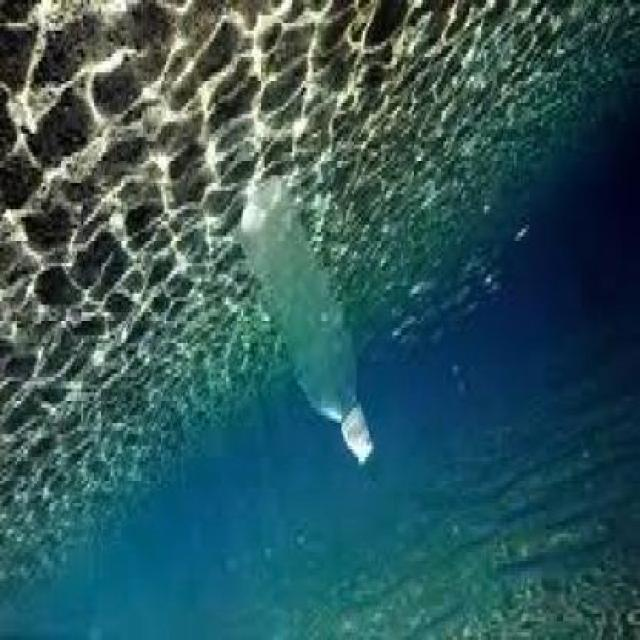pbottle: (216, 172, 382, 468)
